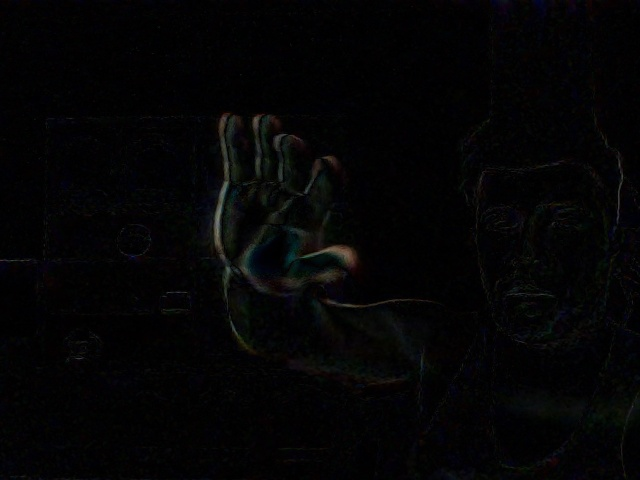arm_fo: (203, 96, 358, 353)
